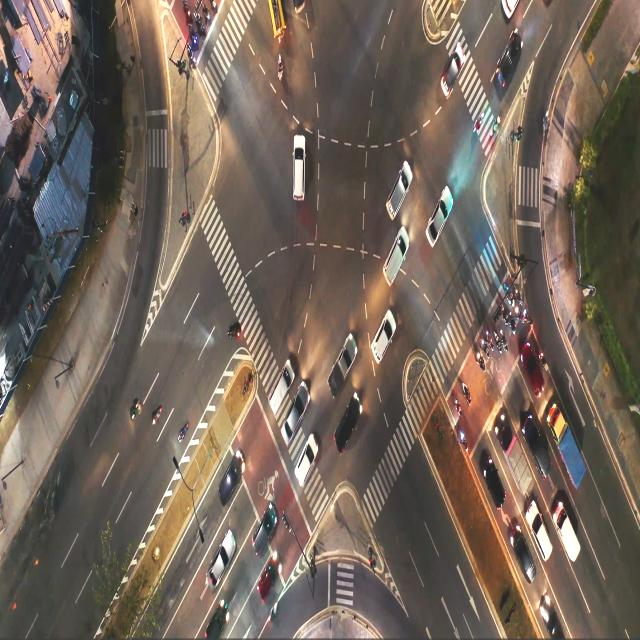car: (332, 350, 352, 380), (343, 401, 358, 431), (375, 330, 390, 358), (504, 46, 517, 76), (262, 563, 278, 586), (386, 251, 402, 272), (285, 411, 299, 435), (217, 548, 226, 585), (520, 548, 533, 573), (533, 434, 543, 466), (390, 183, 404, 205), (255, 523, 270, 543), (272, 384, 286, 405), (535, 520, 547, 544), (449, 58, 459, 86), (223, 474, 237, 493), (432, 214, 443, 238), (292, 165, 303, 188), (302, 443, 312, 468), (491, 468, 498, 499), (532, 363, 541, 385), (212, 616, 222, 632)
motorcycle: (178, 419, 190, 449), (131, 400, 143, 417), (492, 114, 500, 134), (229, 324, 243, 334), (205, 3, 211, 26), (474, 115, 485, 127), (154, 406, 164, 419), (276, 57, 282, 78), (192, 33, 198, 54), (542, 116, 549, 133), (465, 388, 472, 402), (455, 400, 461, 416), (191, 45, 195, 68), (508, 286, 512, 308), (199, 18, 204, 35), (480, 356, 486, 370), (462, 432, 466, 450), (482, 340, 488, 352), (526, 311, 530, 329), (511, 321, 516, 334), (490, 333, 494, 349), (505, 336, 508, 356), (503, 310, 507, 323), (543, 353, 546, 370), (497, 338, 500, 354), (518, 294, 522, 306), (187, 0, 189, 20)
truck: (563, 424, 575, 477), (513, 442, 525, 479), (564, 518, 576, 551)
